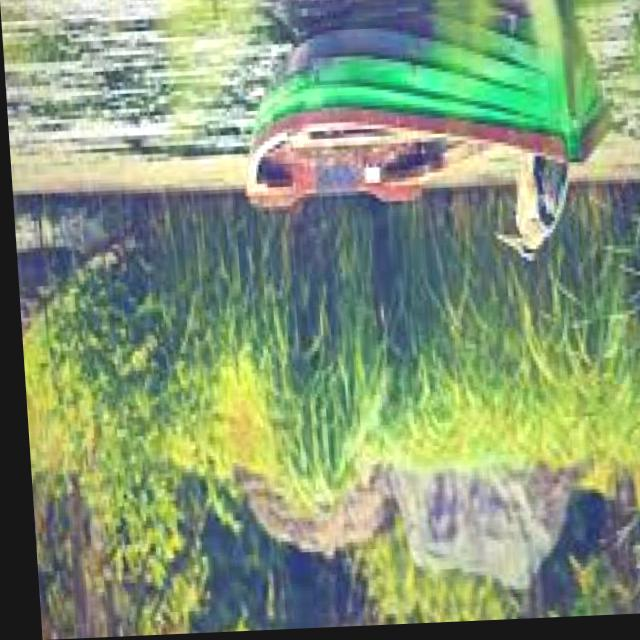ship2: (243, 0, 606, 210)
